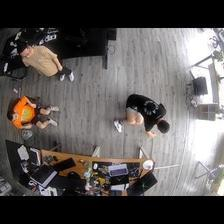fall: (111, 93, 171, 135)
normal: (17, 41, 74, 82), (6, 95, 59, 128)
